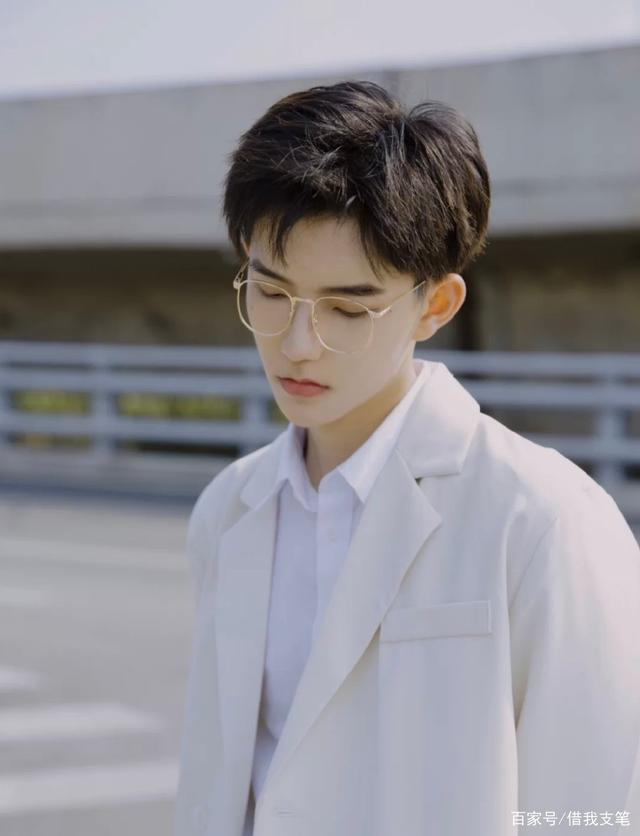person: (149, 79, 587, 685)
